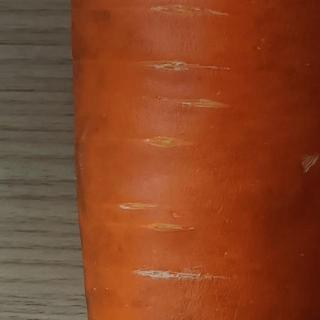carrot: (60, 0, 320, 320)
